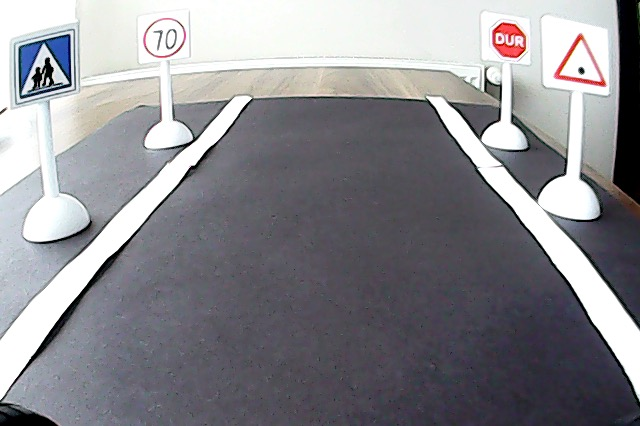green light: (550, 29, 611, 92)
school crossing: (12, 28, 78, 105)
speed limit 70: (140, 15, 189, 60)
stop sign: (485, 16, 532, 62)
